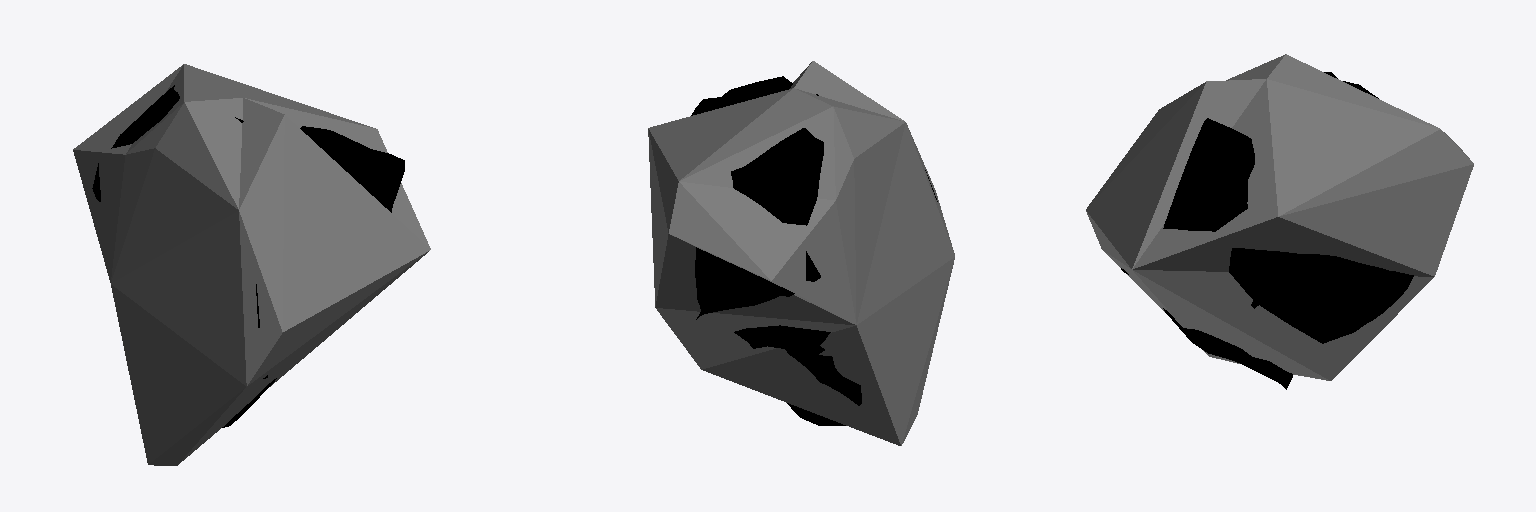
The model's file is rock4.obj.
3 renders of one model, left to right at view 1: azimuth 30°, elevation 25°; view 2: azimuth 150°, elevation 25°; view 3: azimuth 270°, elevation 25°, orthographic.
Parts seen in each view (by area): view 1: rock3:Mesh; view 2: rock3:Mesh; view 3: rock3:Mesh.
Boxes of the visible parts, x1=… form: rock3:Mesh: x1=73, y1=64, x2=430, y2=465; rock3:Mesh: x1=648, y1=61, x2=954, y2=445; rock3:Mesh: x1=1086, y1=54, x2=1473, y2=389.
Bounding box in the file's own units: 2.85 × 3.85 × 3.98.